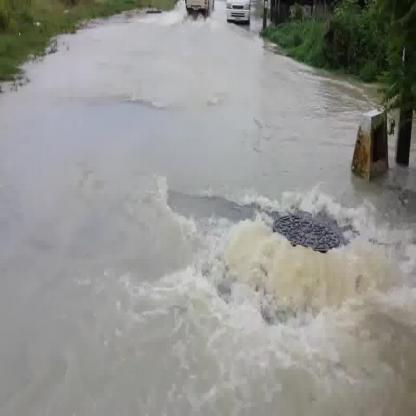drainage overflow-repair-: (268, 207, 348, 260)
